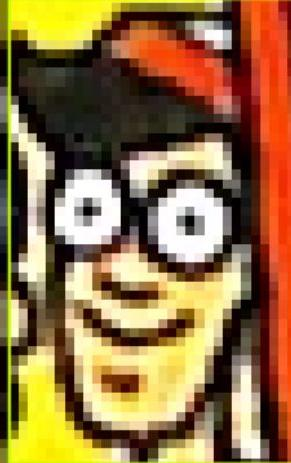waldos: (13, 10, 258, 463)
